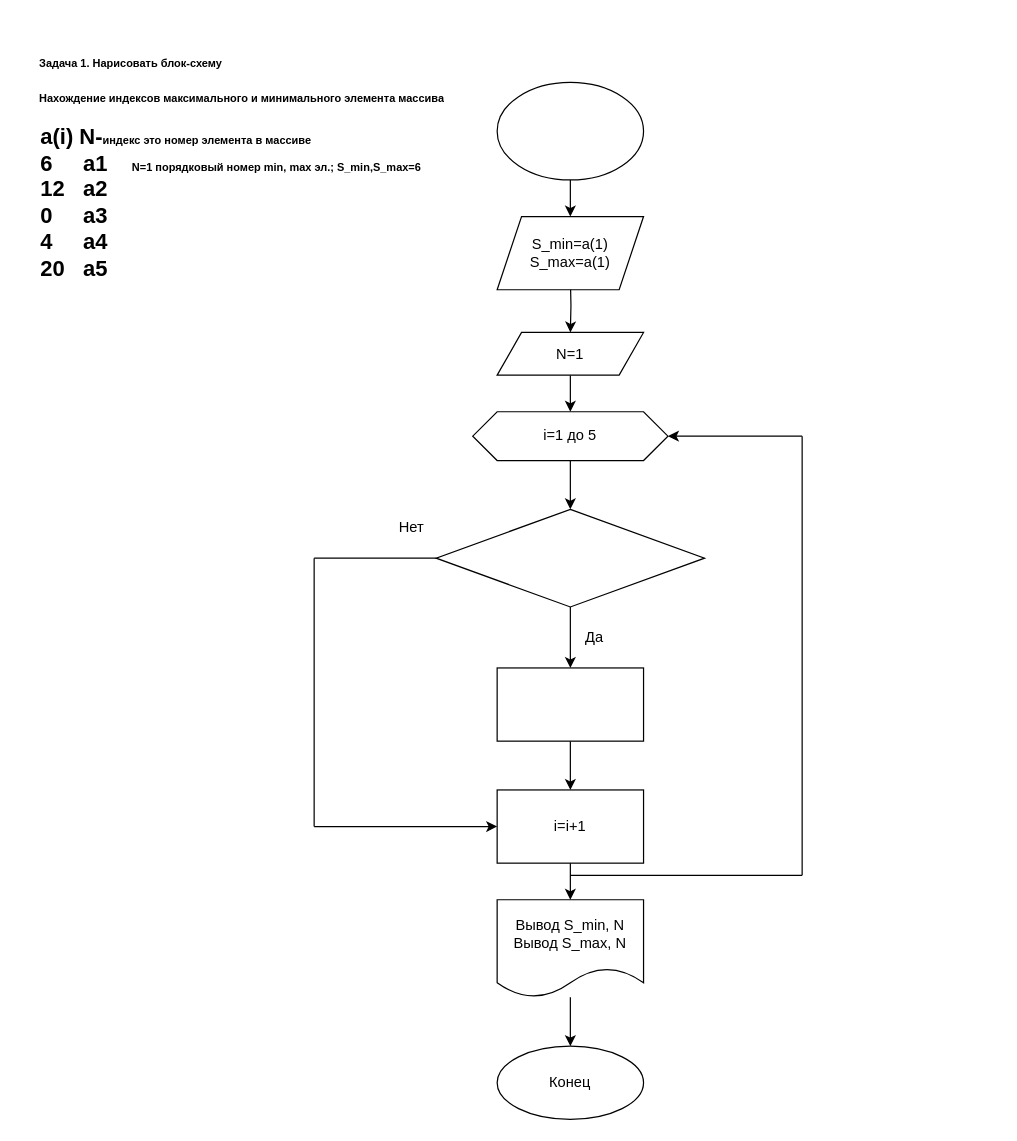
The diagram is 1017 pixels wide and 1141 high, and some of its shapes have lost their labels. Here are the shapes that lost their labels. From the top down, the box of each, then its label:
(496, 81, 644, 180): Начало
(435, 508, 705, 607): a(i) < S_min или a(i) > S_max
(496, 667, 644, 741): S_min=a(i) S_max=a(i)
